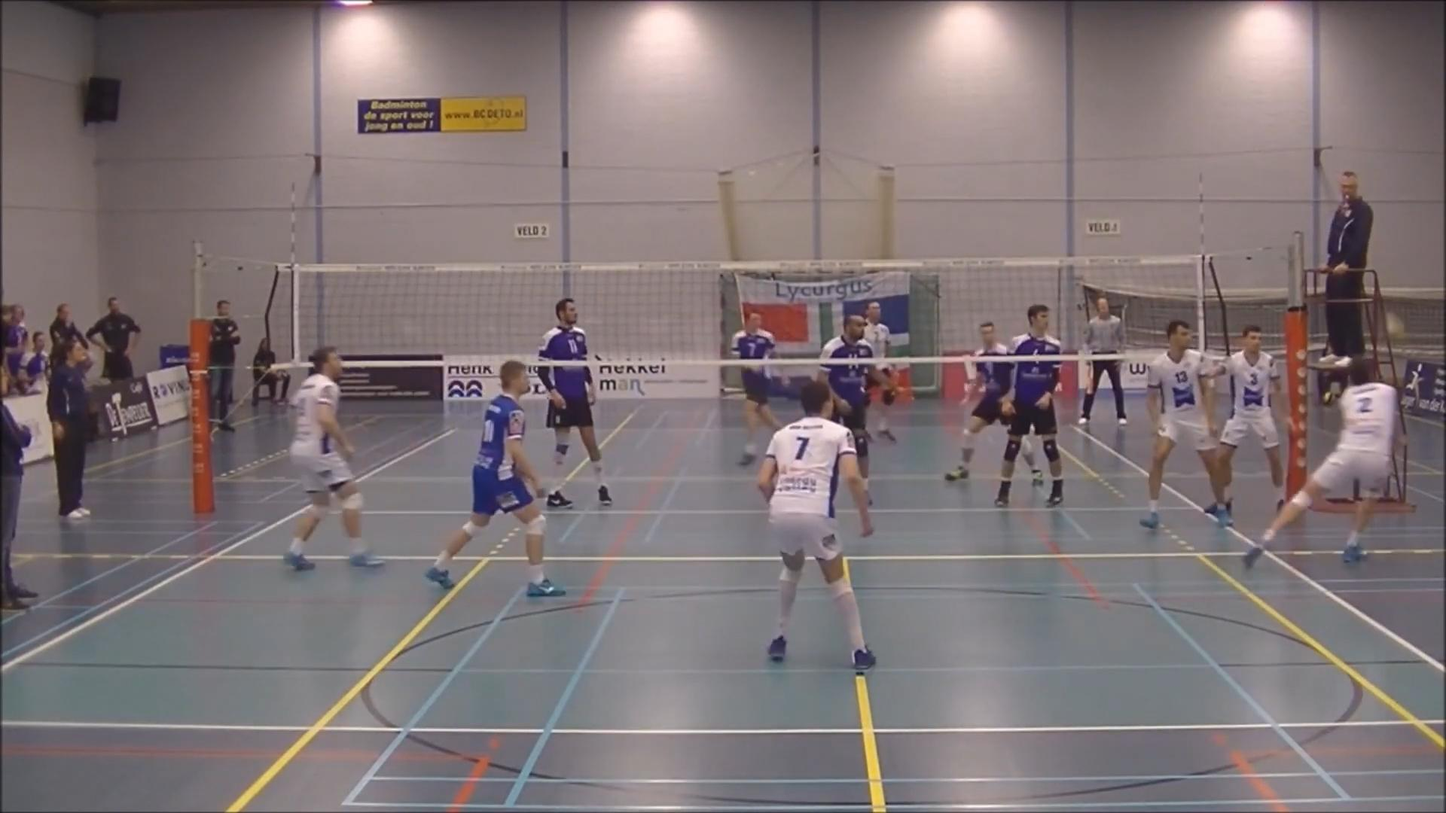Player: (758, 381, 874, 671), (426, 360, 565, 596), (283, 346, 383, 570), (1140, 320, 1231, 528), (538, 298, 612, 507), (995, 304, 1063, 507), (818, 315, 894, 491), (1218, 325, 1283, 510), (945, 321, 1012, 481), (731, 313, 780, 464), (864, 301, 891, 379)
Receive: (1237, 358, 1417, 570)
